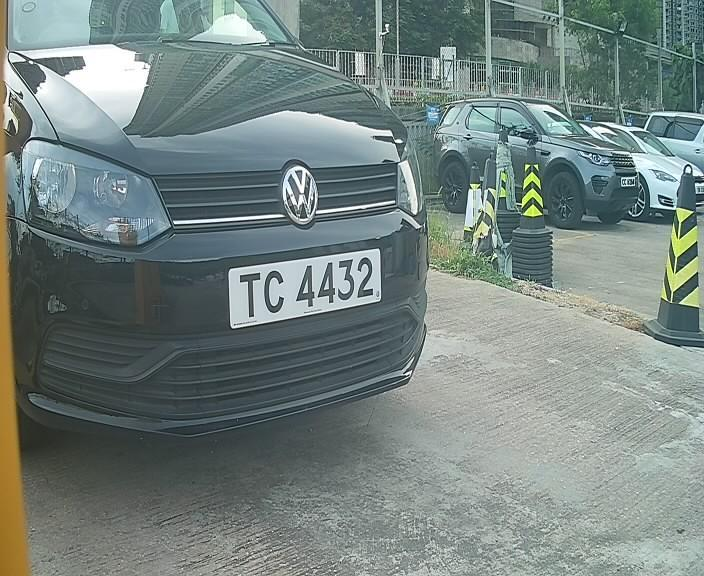privatecar: (4, 8, 447, 445)
